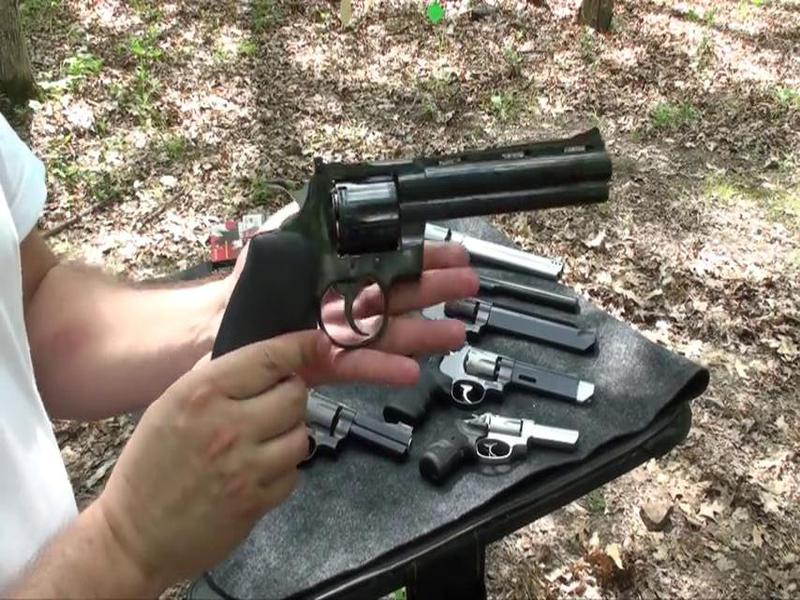Revolver: (205, 125, 625, 349)
